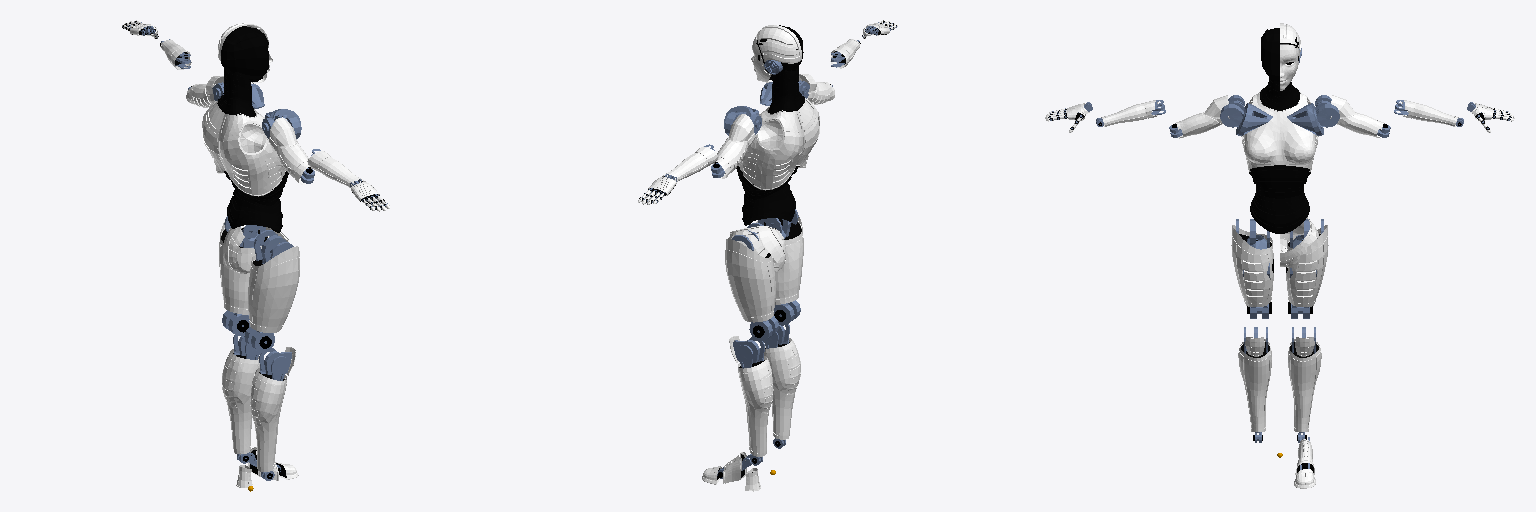
--- Render facts (derived) ---
Views: 3 orthographic renders of the robot side by side, from view 1: azimuth 30°, elevation 25°; view 2: azimuth 150°, elevation 25°; view 3: azimuth 270°, elevation 25°.
Model humanMeshed with 89 links and 88 joints (88 continuous), rooted at base_link, posed all joints at 0.
Visible links, largest first — view 1: chest_yaw, right_thigh_yaw, right_knee_yaw, left_knee_yaw, left_thigh_yaw, head_yaw, lower_spine_yaw, right_shoulder_yaw, neck_yaw, right_elbow_yaw, left_foot_yaw, hip_yaw (+3 smaller); view 2: chest_yaw, left_thigh_yaw, left_knee_yaw, right_knee_yaw, right_thigh_yaw, head_yaw, lower_spine_yaw, left_shoulder_yaw, hip_yaw, left_foot_yaw, neck_yaw, left_elbow_yaw (+3 smaller); view 3: chest_yaw, lower_spine_yaw, right_thigh_yaw, left_thigh_yaw, right_knee_yaw, left_knee_yaw, head_yaw, left_shoulder_yaw, right_shoulder_yaw, hip_yaw, left_clavicle_yaw, right_clavicle_yaw (+6 smaller).
Boxes of the visible links, x1=… form: chest_yaw: x1=202, y1=101, x2=285, y2=196; right_thigh_yaw: x1=244, y1=230, x2=299, y2=352; right_knee_yaw: x1=250, y1=347, x2=295, y2=480; left_knee_yaw: x1=222, y1=335, x2=260, y2=463; left_thigh_yaw: x1=219, y1=216, x2=269, y2=335; head_yaw: x1=218, y1=23, x2=272, y2=83; lower_spine_yaw: x1=224, y1=171, x2=288, y2=232; right_shoulder_yaw: x1=262, y1=115, x2=314, y2=184; neck_yaw: x1=217, y1=68, x2=255, y2=116; right_elbow_yaw: x1=307, y1=149, x2=365, y2=187; left_foot_yaw: x1=236, y1=447, x2=298, y2=487; hip_yaw: x1=223, y1=225, x2=288, y2=273; chest_yaw: x1=739, y1=98, x2=819, y2=190; left_thigh_yaw: x1=725, y1=223, x2=778, y2=341; left_knee_yaw: x1=729, y1=336, x2=773, y2=465; right_knee_yaw: x1=763, y1=324, x2=800, y2=448; right_thigh_yaw: x1=756, y1=209, x2=803, y2=325; head_yaw: x1=751, y1=25, x2=803, y2=82; lower_spine_yaw: x1=736, y1=166, x2=799, y2=225; left_shoulder_yaw: x1=711, y1=112, x2=761, y2=178; hip_yaw: x1=729, y1=223, x2=786, y2=271; left_foot_yaw: x1=702, y1=452, x2=760, y2=491; neck_yaw: x1=768, y1=66, x2=804, y2=113; left_elbow_yaw: x1=662, y1=144, x2=717, y2=181; chest_yaw: x1=1241, y1=91, x2=1318, y2=171; lower_spine_yaw: x1=1249, y1=165, x2=1310, y2=233; right_thigh_yaw: x1=1231, y1=219, x2=1273, y2=318; left_thigh_yaw: x1=1286, y1=219, x2=1328, y2=318; right_knee_yaw: x1=1238, y1=327, x2=1271, y2=442; left_knee_yaw: x1=1288, y1=327, x2=1321, y2=442; head_yaw: x1=1261, y1=23, x2=1301, y2=90; left_shoulder_yaw: x1=1315, y1=95, x2=1390, y2=138; right_shoulder_yaw: x1=1169, y1=95, x2=1244, y2=138; hip_yaw: x1=1243, y1=217, x2=1318, y2=277; left_clavicle_yaw: x1=1287, y1=103, x2=1339, y2=135; right_clavicle_yaw: x1=1220, y1=103, x2=1272, y2=135.
Bounding box of the posed robot: 0.3796 × 1.78 × 1.8 m (x, y, z).
Meshes: 19 distinct files referenced, 18 mesh visuals loaded (18 Collada DAE); not drawn: 1 (file found but could not be loaded).

robot.urdf — humanMeshed:
<?xml version="1.0"?>
<robot name="humanMeshed">

  <link name="base_link">
    <visual>
      <geometry>
        <sphere radius="0.01"/>
      </geometry>
    </visual>
  </link>

<!--   HIP starts here  -->
  <link name="hip_roll"/>

  <joint name="hip_roll" type="continuous">
    <parent link="base_link" />
    <child link="hip_roll" />
    <origin xyz="0.05 0 0.90"/>
    <axis xyz="1.0 0 0"/>
  </joint>

  <link name="hip_pitch">
    
  </link>

  <joint name="hip_pitch" type="continuous">
    <parent link="hip_roll"/>
    <child link="hip_pitch"/>
    <origin xyz="0 0 0"/>
    <axis xyz="0 1.0 0"/>
  </joint>

  <link name="hip_yaw">
        <visual>
      <geometry>  
        <mesh filename="package://online_tempo/models/humanMeshed/meshes/pelvis.dae" scale="0.06 0.06 0.06"/>
     </geometry>
      <origin rpy="0 0 1.57075" xyz="0 0 -0.96"/>   
    </visual>
  </link>

  <joint name="hip_yaw" type="continuous">
    <parent link="hip_pitch"/>
    <child link="hip_yaw"/>
    <origin xyz="0 0 0"/>
    <axis xyz="0 0 1.0"/>
  </joint>

 <!--           HIP ENDS HERE        -->
 <!--      RIGHT THIGH STARTS HERE    -->
 <joint name="right_thigh_roll" type="continuous">
    <parent link="hip_yaw"/>
    <child link="right_thigh_roll"/>
    <origin xyz="-0.008278 -0.100432  0.042441  "/>
    <axis xyz="1.0 0 0"/>
 </joint>

 <link name="right_thigh_roll"/>

 <joint name="right_thigh_pitch" type="continuous">
    <parent link="right_thigh_roll"/>
    <child link="right_thigh_pitch"/>
    <origin xyz="0 0 0"/>
    <axis xyz="0 1.0 0"/>
 </joint>

 <link name="right_thigh_pitch"/>

 <joint name="right_thigh_yaw" type="continuous">
    <parent link="right_thigh_pitch"/>
    <child link="right_thigh_yaw"/>
    <origin xyz="0 0 0"/>
    <axis xyz="0 0 1.0"/>
 </joint>

<link name="right_thigh_yaw">
  <visual>
    <geometry>
      <mesh filename="package://online_tempo/models/humanMeshed/meshes/rightThigh.dae" scale="0.06 0.06 0.06"/>
    </geometry>      
    <origin rpy="0 0 1.57075" xyz="0 0.0875 -0.8725"/>  
  </visual>
</link>
<!--       RIGHT THIGH ENDS HERE       -->
<!--       RIGHT KNEE STARTS HERE      -->
<joint name="right_knee_roll" type="continuous">
  <parent link="right_thigh_yaw"/>
  <child link="right_knee_roll"/>
  <origin xyz="0 0.008037 -0.436842"/>
  <axis xyz="1.0 0 0"/>
</joint>

<link name="right_knee_roll"/>

<joint name="right_knee_pitch" type="continuous">
  <parent link="right_knee_roll"/>
  <child link="right_knee_pitch"/>
  <origin xyz="0 0 0"/>
  <axis xyz="0 1.0 0"/>
</joint>

<link name="right_knee_pitch"/>

<joint name="right_knee_yaw" type="continuous">
  <parent link="right_knee_pitch"/>
  <child link="right_knee_yaw"/>
  <origin xyz="0 0 0"/>
  <axis xyz="0 0 1.0"/>
</joint>

<link name="right_knee_yaw">
  <visual>
    <geometry>
      <mesh filename="package://online_tempo/models/humanMeshed/meshes/rightShin.dae" scale="0.06 0.06 0.06"/>
    </geometry>      
    <origin rpy="0 0 1.57075" xyz="0.05 0.0675 -0.53"/>    
  </visual>
</link>
<!--         RIGHT KNEE ENDS HERE   -->
<!--         RIGHT FOOT STARTS HERE -->
<joint name="right_foot_roll" type="continuous">
  <parent link="right_knee_yaw"/>
  <child link="right_foot_roll"/>
  <origin xyz="0.0000 0.0000 -0.428949  "/>
  <axis xyz="1.0 0 0"/>
</joint> 

<link name="right_foot_roll"/>

<joint name="right_foot_pitch" type="continuous">
  <parent link="right_foot_roll"/>
  <child link="right_foot_pitch"/>
  <origin xyz="0 0 0"/>
  <axis xyz="0 1.0 0"/>
</joint> 

<link name="right_foot_pitch"/>

<joint name="right_foot_yaw" type="continuous">
  <parent link="right_foot_pitch"/>
  <child link="right_foot_yaw"/>
  <origin xyz="0 0 0"/>
  <axis xyz="0 0 1.0"/>
</joint> 

<link name="right_foot_yaw">
  <visual>
    <geometry>
      <mesh filename="package://online_tempo/models/humanMeshed/meshes/rightFoot.dae" scale="0.06 0.06 0.06"/>
    </geometry>
    <origin rpy="0 0 1.57075" xyz="0.07375 0.055 -0.1075"/>    
   </visual>
 </link>

<!--   RIGHT FOOT ENDS HERE   -->
<joint name="right_toe_roll" type="continuous">
  <parent link="right_foot_yaw"/>
  <child link="right_toe_roll"/>
  <origin xyz="0.098587 0.0000 -0.047145 "/>
  <axis xyz="1.0 0 0"/>
</joint>

<link name="right_toe_roll"/>

<joint name="right_toe_pitch" type="continuous">
  <parent link="right_toe_roll"/>
  <child link="right_toe_pitch"/>
  <origin xyz="0 0 0"/>
  <axis xyz="0 1.0 0"/>
</joint>

<link name="right_toe_pitch"/>

<joint name="right_toe_yaw" type="continuous">
  <parent link="right_toe_pitch"/>
  <child link="right_toe_yaw"/>
  <origin xyz="0 0 0"/>
  <axis xyz="0 0 1.0"/>
</joint>

<link name="right_toe_yaw"/>


<!--   LEFT THIGH STARTS HERE -->
 <joint name="left_thigh_roll" type="continuous">
    <parent link="hip_yaw"/>
    <child link="left_thigh_roll"/>
    
    <origin xyz="-0.008278 0.100433 0.042438  "/>
    <axis xyz="1.0 0 0"/>
 </joint>



 <link name="left_thigh_roll"/>

 <joint name="left_thigh_pitch" type="continuous">
    <parent link="left_thigh_roll"/>
    <child link="left_thigh_pitch"/>
    <origin xyz="0 0 0"/>
    <axis xyz="0 1.0 0"/>
 </joint>

 <link name="left_thigh_pitch"/>

 <joint name="left_thigh_yaw" type="continuous">
    <parent link="left_thigh_pitch"/>
    <child link="left_thigh_yaw"/>
    <origin xyz="0 0 0"/>
    <axis xyz="0 0 1.0"/>
 </joint>

<link name="left_thigh_yaw">
  <visual>
    <geometry>
      <mesh filename="package://online_tempo/models/humanMeshed/meshes/leftThigh.dae" scale="0.06 0.06 0.06"/>
    </geometry>      
    <origin rpy="0 0 1.57075" xyz="0 -0.0875 -0.8725"/>    
  </visual>
</link>
<!--     LEFT THIGH ENDS HERE -->
<!--       LEFT KNEE STARTS HERE      -->
<joint name="left_knee_roll" type="continuous">
  <parent link="left_thigh_yaw"/>
  <child link="left_knee_roll"/>
  <origin xyz="0 -0.008037 -0.436838 "/>

  <axis xyz="1.0 0 0"/>
</joint>

<link name="left_knee_roll"/>

<joint name="left_knee_pitch" type="continuous">
  <parent link="left_knee_roll"/>
  <child link="left_knee_pitch"/>
  <origin xyz="0 0 0"/>
  <axis xyz="0 1.0 0"/>
</joint>

<link name="left_knee_pitch"/>

<joint name="left_knee_yaw" type="continuous">
  <parent link="left_knee_pitch"/>
  <child link="left_knee_yaw"/>
  <origin xyz="0 0 0"/>
  <axis xyz="0 0 1.0"/>
</joint>

<link name="left_knee_yaw">
  <visual>
    <geometry>
      <mesh filename="package://online_tempo/models/humanMeshed/meshes/leftShin.dae" scale="0.06 0.06 0.06"/>
    </geometry>      
    <origin rpy="0 0 1.57075" xyz="0.05 -0.0675 -0.53"/>   
  </visual>
</link>
<!--         left KNEE ENDS HERE   -->
<!--         left FOOT STARTS HERE -->
<joint name="left_foot_roll" type="continuous">
  <parent link="left_knee_yaw"/>
  <child link="left_foot_roll"/>
  
  <origin xyz="0 0.0000 -0.428949  "/>
  <axis xyz="1.0 0 0"/>
</joint> 

<link name="left_foot_roll"/>

<joint name="left_foot_pitch" type="continuous">
  <parent link="left_foot_roll"/>
  <child link="left_foot_pitch"/>
  <origin xyz="0 0 0"/>
  <axis xyz="0 1.0 0"/>
</joint> 

<link name="left_foot_pitch"/>

<joint name="left_foot_yaw" type="continuous">
  <parent link="left_foot_pitch"/>
  <child link="left_foot_yaw"/>
  <origin xyz="0 0 0"/>
  <axis xyz="0 0 1.0"/>
</joint> 

<link name="left_foot_yaw">
  <visual>
    <geometry>
      <mesh filename="package://online_tempo/models/humanMeshed/meshes/leftFoot.dae" scale="0.06 0.06 0.06"/>
    </geometry>
    <origin rpy="0 0 1.57075" xyz="0.07375 -0.055 -0.1075"/>    
   </visual>
</link>
<!--   left FOOT ENDS HERE   -->

<joint name="left_toe_roll" type="continuous">
  <parent link="left_foot_yaw"/>
  <child link="left_toe_roll"/>
  <origin xyz="0.098587 0.0000 -0.047145 "/>
  <axis xyz="1.0 0 0"/>
</joint>

<link name="left_toe_roll"/>

<joint name="left_toe_pitch" type="continuous">
  <parent link="left_toe_roll"/>
  <child link="left_toe_pitch"/>
  <origin xyz="0 0 0"/>
  <axis xyz="0 1.0 0"/>
</joint>

<link name="left_toe_pitch"/>

<joint name="left_toe_yaw" type="continuous">
  <parent link="left_toe_pitch"/>
  <child link="left_toe_yaw"/>
  <origin xyz="0 0 0"/>
  <axis xyz="0 0 1.0"/>
</joint>

<link name="left_toe_yaw"/>



<!--   lower_spine STARTS HERE   -->
<joint name="lower_spine_roll" type="continuous">
  <parent link="hip_yaw"/>
  <child link="lower_spine_roll"/>
  <origin xyz="-0.050805 0.0000 0.093885  "/>
  <axis xyz="1.0 0 0"/>
</joint>

<link name="lower_spine_roll"/>

<joint name="lower_spine_pitch" type="continuous">
  <parent link="lower_spine_roll"/>
  <child link="lower_spine_pitch"/>
  <origin xyz="0 0 0"/>
  <axis xyz="0 1.0 0"/>
</joint>

<link name="lower_spine_pitch"/>

<joint name="lower_spine_yaw" type="continuous">
  <parent link="lower_spine_pitch"/>
  <child link="lower_spine_yaw"/>
  <origin xyz="0 0 0"/>
  <axis xyz="0 0 1.0"/>
</joint>


<link name="lower_spine_yaw">
  <visual>
    <geometry>
              <mesh filename="package://online_tempo/models/humanMeshed/meshes/abdomen.dae" scale="0.06 0.06 0.06"/>
    </geometry>
    <origin rpy="0 0 1.57075" xyz="-0.005 0 -1"/>    
  </visual>
</link>

<!--  lower_spine ENDS HERE     -->
<!--  middle_spine Starts here  -->
<joint name="middle_spine_roll" type="continuous">
  <parent link="lower_spine_yaw"/>
  <child link="middle_spine_roll"/>
  <origin xyz="0.004476 0.0000 0.085677  "/>
  <axis xyz="1.0 0 0"/>
</joint>

<link name="middle_spine_roll"/>

<joint name="middle_spine_pitch" type="continuous">
  <parent link="middle_spine_roll"/>
  <child link="middle_spine_pitch"/>
  <origin xyz="0 0 0"/>
  <axis xyz="0 1.0 0"/>
</joint>

<link name="middle_spine_pitch"/>

<joint name="middle_spine_yaw" type="continuous">
  <parent link="middle_spine_pitch"/>
  <child link="middle_spine_yaw"/>
  <origin xyz="0 0 0"/>
  <axis xyz="0 0 1.0"/>
</joint>

<link name="middle_spine_yaw">
  <!--
  <visual>
    <geometry>
        <box size="0.10 0.25 0.08"/>
    </geometry>
    <origin rpy="0 0 0" xyz="0 0 0.04"/>    
  </visual>
-->
</link>

<!--  middle_spine Ends here    -->
<!--  CHEST STARTS HERE     -->
<joint name="chest_roll" type="continuous">
  <parent link="middle_spine_yaw"/>
  <child link="chest_roll"/>
  <origin xyz="-0.023598 0.0000 0.106015 "/>
  <axis xyz="1.0 0 0"/>
</joint>

<link name="chest_roll"/>

<joint name="chest_pitch" type="continuous">
  <parent link="chest_roll"/>
  <child link="chest_pitch"/>
  <origin xyz="0 0 0"/>
  <axis xyz="0 1.0 0"/>
</joint>

<link name="chest_pitch"/>

<joint name="chest_yaw" type="continuous">
  <parent link="chest_pitch"/>
  <child link="chest_yaw"/>
  <origin xyz="0 0 0"/>
  <axis xyz="0 0 1.0"/>
</joint>

<link name="chest_yaw">
  <visual>
    <geometry>
      <mesh filename="package://online_tempo/models/humanMeshed/meshes/chest.dae" scale="0.06 0.06 0.06"/>
    </geometry>
    <origin rpy="0 0 1.57075" xyz="0 0 -1.2"/>    
  </visual>
</link>
<!--     Chest ends here            -->
<!--     left clavicle starts here  -->
<joint name="left_clavicle_roll" type="continuous">
  <parent link="chest_yaw"/>
  <child link="left_clavicle_roll"/>
  <origin xyz="0.078988 0.024119 0.230552 "/>
  <axis xyz="1.0 0 0"/>
</joint>

<link name="left_clavicle_roll"/>

<joint name="left_clavicle_pitch" type="continuous">
  <parent link="left_clavicle_roll"/>
  <child link="left_clavicle_pitch"/>
  <origin xyz="0 0 0"/>
  <axis xyz="0 1.0 0"/>
</joint>

<link name="left_clavicle_pitch"/>

<joint name="left_clavicle_yaw" type="continuous">
  <parent link="left_clavicle_pitch"/>
  <child link="left_clavicle_yaw"/>
  <origin xyz="0 0 0"/>
  <axis xyz="0 0 1.0"/>
</joint>

<link name="left_clavicle_yaw">
  <visual>
    <geometry>
    <mesh filename="package://online_tempo/models/humanMeshed/meshes/leftClavicle.dae" scale="0.06 0.06 0.06"/>
    </geometry>
    <origin rpy="0 0 1.57075" xyz="0.04 0 -1.4"/>
  </visual>
</link>
<!-- left clavicle ends here   -->
<!-- left shoulder starts here -->
<joint name="left_shoulder_roll" type="continuous">
  <parent link="left_clavicle_yaw"/>
  <child link="left_shoulder_roll"/>
  <origin xyz="-0.053510 0.140907  0.033069  "/>
  <axis xyz="1.0 0 0"/>
</joint>

<link name="left_shoulder_roll"/>

<joint name="left_shoulder_pitch" type="continuous">
  <parent link="left_shoulder_roll"/>
  <child link="left_shoulder_pitch"/>
  <origin xyz="0 0 0"/>
  <axis xyz="0 1.0 0"/>
</joint>

<link name="left_shoulder_pitch"/>

<joint name="left_shoulder_yaw" type="continuous">
  <parent link="left_shoulder_pitch"/>
  <child link="left_shoulder_yaw"/>
  <origin xyz="0 0 0"/>
  <axis xyz="0 0 1.0"/>
</joint>

<link name="left_shoulder_yaw">
  <visual>
    <geometry>
      <mesh filename="package://online_tempo/models/humanMeshed/meshes/leftBicep.dae" scale="0.06 0.06 0.06"/> 
    </geometry>
    <origin rpy="0 0 1.57075 " xyz="0.04 -0.16 -1.42" />
  </visual>
</link>
<!-- left shoulder ends here -->
<!-- left elbow starts here -->
<joint name="left_elbow_roll" type="continuous">
  <parent link="left_shoulder_yaw"/>
  <child link="left_elbow_roll"/>
  <origin xyz="-0.002594 0.299313  -0.001061 "/>
  <axis xyz="1.0 0 0"/>
</joint>

<link name="left_elbow_roll"/>

<joint name="left_elbow_pitch" type="continuous">
  <parent link="left_elbow_roll"/>
  <child link="left_elbow_pitch"/>
  <origin xyz="0 0 0"/>
  <axis xyz="0 1.0 0"/>
</joint>

<link name="left_elbow_pitch"/>

<joint name="left_elbow_yaw" type="continuous">
  <parent link="left_elbow_pitch"/>
  <child link="left_elbow_yaw"/>
  <origin xyz="0 0 0"/>
  <axis xyz="0 0 1.0"/>
</joint>

<link name="left_elbow_yaw">
  <visual>
    <geometry>
      <mesh filename="package://online_tempo/models/humanMeshed/meshes/leftForearm.dae" scale="0.06 0.06 0.06"/> 
    </geometry>
    <origin rpy="0 0 1.57075 " xyz="0.04 -0.4 -1.322" />
  </visual>
</link>
<!-- left elbow ends here   -->
<!-- left hand starts here  -->
<joint name="left_hand_roll" type="continuous">
  <parent link="left_elbow_yaw"/>
  <child link="left_hand_roll"/>
  <origin xyz="-0.001496 0.249691  0.000724  "/>
  <axis xyz="1.0 0 0"/>
</joint>

<link name="left_hand_roll"/>

<joint name="left_hand_pitch" type="continuous">
  <parent link="left_hand_roll"/>
  <child link="left_hand_pitch"/>
  <origin xyz="0 0 0"/>
  <axis xyz="0 1.0 0"/>
</joint>

<link name="left_hand_pitch"/>

<joint name="left_hand_yaw" type="continuous">
  <parent link="left_hand_pitch"/>
  <child link="left_hand_yaw"/>
  <origin xyz="0 0 0"/>
  <axis xyz="0 0 1.0"/>
</joint>

<link name="left_hand_yaw">
  <visual>
    <geometry>
      <mesh filename="package://online_tempo/models/humanMeshed/meshes/leftHand.dae" scale="0.06 0.06 0.06"/> 
    </geometry>
    <origin rpy="0 0 1.57075 " xyz="-0.0075 -0.61 -1.28" />
  </visual>
</link>
<!-- left hand ends here    -->

<joint name="right_clavicle_roll" type="continuous">
  <parent link="chest_yaw"/>
  <child link="right_clavicle_roll"/>
  <origin xyz="0.078988 -0.024119  0.230552 "/>
  <axis xyz="1.0 0 0"/>
</joint>

<link name="right_clavicle_roll"/>

<joint name="right_clavicle_pitch" type="continuous">
  <parent link="right_clavicle_roll"/>
  <child link="right_clavicle_pitch"/>
  <origin xyz="0 0 0"/>
  <axis xyz="0 1.0 0"/>
</joint>

<link name="right_clavicle_pitch"/>

<joint name="right_clavicle_yaw" type="continuous">
  <parent link="right_clavicle_pitch"/>
  <child link="right_clavicle_yaw"/>
  <origin xyz="0 0 0"/>
  <axis xyz="0 0 1.0"/>
</joint>

<link name="right_clavicle_yaw">
  <visual>
    <geometry>
    <mesh filename="package://online_tempo/models/humanMeshed/meshes/rightClavicle.dae" scale="0.06 0.06 0.06"/>
    </geometry>
    <origin rpy="0 0 1.57075" xyz="0.04 0 -1.4"/>
  </visual>
</link>
<!-- right clavicle ends here   -->
<!-- right shoulder starts here -->
<joint name="right_shoulder_roll" type="continuous">
  <parent link="right_clavicle_yaw"/>
  <child link="right_shoulder_roll"/>
  <origin xyz="-0.053519 -0.140932 0.033075  "/>
  <axis xyz="1.0 0 0"/>
</joint>

<link name="right_shoulder_roll"/>

<joint name="right_shoulder_pitch" type="continuous">
  <parent link="right_shoulder_roll"/>
  <child link="right_shoulder_pitch"/>
  <origin xyz="0 0 0"/>
  <axis xyz="0 1.0 0"/>
</joint>

<link name="right_shoulder_pitch"/>

<joint name="right_shoulder_yaw" type="continuous">
  <parent link="right_shoulder_pitch"/>
  <child link="right_shoulder_yaw"/>
  <origin xyz="0 0 0"/>
  <axis xyz="0 0 1.0"/>
</joint>

<link name="right_shoulder_yaw">
  <visual>
    <geometry>
      <mesh filename="package://online_tempo/models/humanMeshed/meshes/rightBicep.dae" scale="0.06 0.06 0.06"/> 
    </geometry>
    <origin rpy="0 0 1.57075 " xyz="0.04 0.16 -1.42" />
  </visual>
</link>
<!-- right shoulder ends here -->
<!-- right elbow starts here -->
<joint name="right_elbow_roll" type="continuous">
  <parent link="right_shoulder_yaw"/>
  <child link="right_elbow_roll"/>
  <origin xyz="-0.002594 -0.299313 -0.001061 "/>
  <axis xyz="1.0 0 0"/>
</joint>

<link name="right_elbow_roll"/>

<joint name="right_elbow_pitch" type="continuous">
  <parent link="right_elbow_roll"/>
  <child link="right_elbow_pitch"/>
  <origin xyz="0 0 0"/>
  <axis xyz="0 1.0 0"/>
</joint>

<link name="right_elbow_pitch"/>

<joint name="right_elbow_yaw" type="continuous">
  <parent link="right_elbow_pitch"/>
  <child link="right_elbow_yaw"/>
  <origin xyz="0 0 0"/>
  <axis xyz="0 0 1.0"/>
</joint>

<link name="right_elbow_yaw">
  <visual>
    <geometry>
      <mesh filename="package://online_tempo/models/humanMeshed/meshes/rightForearm.dae" scale="0.06 0.06 0.06"/> 
    </geometry>
    <origin rpy="0 0 1.57075 " xyz="0.04 0.4 -1.322" />
  </visual>
</link>
<!-- right elbow ends here   -->
<!-- right hand starts here  -->
<joint name="right_hand_roll" type="continuous">
  <parent link="right_elbow_yaw"/>
  <child link="right_hand_roll"/>
  <origin xyz="-0.001496 -0.249691 0.000724  "/>
  <axis xyz="1.0 0 0"/>
</joint>

<link name="right_hand_roll"/>

<joint name="right_hand_pitch" type="continuous">
  <parent link="right_hand_roll"/>
  <child link="right_hand_pitch"/>
  <origin xyz="0 0 0"/>
  <axis xyz="0 1.0 0"/>
</joint>

<link name="right_hand_pitch"/>

<joint name="right_hand_yaw" type="continuous">
  <parent link="right_hand_pitch"/>
  <child link="right_hand_yaw"/>
  <origin xyz="0 0 0"/>
  <axis xyz="0 0 1.0"/>
</joint>

<link name="right_hand_yaw">
  <visual>
    <geometry>
      <mesh filename="package://online_tempo/models/humanMeshed/meshes/rightHand.dae" scale="0.06 0.06 0.06"/> 
    </geometry>
    <origin rpy="0 0 1.57075 " xyz="-0.0075 0.61 -1.28" />
  </visual>
</link>
<!-- right hand ends here    -->

<!-- neck starts here   -->
<joint name="neck_roll" type="continuous">
  <parent link="chest_yaw"/>
  <child link="neck_roll"/>
  <origin xyz="0 0 0.25"/>
  <axis xyz="1.0 0 0"/>
</joint>

<link name="neck_roll"/>

<joint name="neck_pitch" type="continuous">
  <parent link="neck_roll"/>
  <child link="neck_pitch"/>
  <origin xyz="0 0 0"/>
  <axis xyz="0 1.0 0"/>
</joint>

<link name="neck_pitch"/>

<joint name="neck_yaw" type="continuous">
  <parent link="neck_pitch"/>
  <child link="neck_yaw"/>
  <origin xyz="0 0 0"/>
  <axis xyz="0 0 1.0"/>
</joint>

<link name="neck_yaw">
  <visual>
    <geometry>
      <mesh filename="package://online_tempo/models/humanMeshed/meshes/neck.dae" scale="0.06 0.06 0.06"/> 
    </geometry>
    <origin rpy="0 0 1.57075 " xyz="-0.0075 0 -1.45" />
  </visual>
</link>
<!-- neck ends here -->
<!-- head starts here -->
<joint name="head_roll" type="continuous">
  <parent link="neck_yaw"/>
  <child link="head_roll"/>
  <origin xyz="0 0 0.10"/>
  <axis xyz="1.0 0 0"/>
</joint>

<link name="head_roll"/>

<joint name="head_pitch" type="continuous">
  <parent link="head_roll"/>
  <child link="head_pitch"/>
  <origin xyz="0 0 0"/>
  <axis xyz="0 1.0 0"/>
</joint>

<link name="head_pitch"/>

<joint name="head_yaw" type="continuous">
  <parent link="head_pitch"/>
  <child link="head_yaw"/>
  <origin xyz="0 0 0"/>
  <axis xyz="0 0 1.0"/>
</joint>

<link name="head_yaw">
  <visual>
    <geometry>
      <mesh filename="package://online_tempo/models/humanMeshed/meshes/head.dae" scale="0.06 0.06 0.06"/> 
    </geometry>
    <origin rpy="0 0 1.57075 " xyz="-0.0075 0 -1.53" />
  </visual>
</link>
<!-- head ends here -->
<link name="hip">
    
  </link>

  <link name="lower_spine"/>
  <joint name="hip_to_lower_spine" type="continuous">
    <parent link="hip"/>
    <child link="lower_spine"/>
  </joint> 

  <link name="middle_spine"/>
  <joint name="lower_spine_to_middle_spine" type="continuous">
    <parent link="lower_spine"/>
    <child link="middle_spine"/>
  </joint> 

  <link name="chest"/>  
  <joint name="middle_spine_to_chest" type="continuous">
    <parent link="middle_spine"/>
    <child link="chest"/>
  </joint> 

  <link name="neck"/>  
  <joint name="chest_to_neck" type="continuous">
    <parent link="chest"/>
    <child link="neck"/>
  </joint> 

 <link name="head"/>  
  <joint name="neck_to_head" type="continuous">
    <parent link="neck"/>
    <child link="head"/>
  </joint> 

 
<!-- -->
 <link name="left_clavicle"/>  
  <joint name="chest_to_left_clavicle" type="continuous">
    <parent link="chest"/>
    <child link="left_clavicle"/>
  </joint> 
  
 <link name="left_shoulder"/>  
  <joint name="left_clavicle_to_left_shoulder" type="continuous">
    <parent link="left_clavicle"/>
    <child link="left_shoulder"/>
  </joint> 
 
 <link name="left_forearm"/>  
  <joint name="left_shoulder_to_left_forearm" type="continuous">
    <parent link="left_shoulder"/>
    <child link="left_forearm"/>
  </joint>

 <link name="left_hand"/>  
  <joint name="left_forearm_to_left_hand" type="continuous">
    <parent link="left_forearm"/>
    <child link="left_hand"/>
  </joint>  
<!-- -->
 <link name="right_clavicle"/>  
  <joint name="chest_to_right_clavicle" type="continuous">
    <parent link="chest"/>
    <child link="right_clavicle"/>
  </joint> 
  
 <link name="right_shoulder"/>  
  <joint name="right_clavicle_to_right_shoulder" type="continuous">
    <parent link="right_clavicle"/>
    <child link="right_shoulder"/>
  </joint> 
 
 <link name="right_forearm"/>  
  <joint name="right_shoulder_to_right_forearm" type="continuous">
    <parent link="right_shoulder"/>
    <child link="right_forearm"/>
  </joint>

 <link name="right_hand"/>  
  <joint name="right_forearm_to_right_hand" type="continuous">
    <parent link="right_forearm"/>
    <child link="right_hand"/>
  </joint>

<!-- -->

<!-- start of right leg geometry-->
  <link name="right_tigh">
    
  </link>

  <link name="right_leg">
    
  </link>

  <link name="right_foot">
    
  </link>

 <link name="right_foot_toe"/> 


 <joint name="right_foot_to_right_foot_toe" type="continuous">
    <parent link="right_foot"/>
    <child link="right_foot_toe"/>
    <origin xyz="0 0 -0.45"/>
  </joint> 

 
  

<!-- end of right leg geometry -->
<!-- start of left leg geometry -->
  <link name="left_tigh">
   
  </link>

  <link name="left_leg">

  </link>

  <link name="left_foot">
    
  </link>

  <link name="left_foot_toe"/>

  <joint name="left_foot_to_left_foot_toe" type="continuous">
    <parent link="left_foot"/>
    <child link="left_foot_toe"/>
    <origin xyz="0 0 -0.45"/>
  </joint> 

  
  

  <!--link name="left_toe"/>
  <link name="left_toe_end"/-->
    
  
<!-- end of left leg geometry -->

<!-- start of abs -->


  <joint name="base_to_hip" type="continuous">
    <parent link="base_link" />
    <child link="hip" />
    <origin xyz="0 0 0.90"/>
  </joint>
  <!-- right leg joints -->
  
<joint name="hip_to_right_tigh" type="continuous">
  <parent link="hip"/>
    <child link="right_tigh"/>
    <origin xyz="0 -0.1 0"/>
  </joint>





  <joint name="right_tigh_to_right_leg" type="continuous">
    <parent link="right_tigh" />
    <child link="right_leg"/>
    <origin xyz="0 0 -0.45"/>
   </joint>   

  <joint name="right_leg_to_foot" type="continuous">
    <parent link="right_leg"/>
    <child link="right_foot"/>
    <origin xyz="0 0 -0.45"/>
  </joint> 



  <!-- left leg joints -->
   <joint name="hip_to_left_tigh" type="continuous">
    <parent link="hip"/>
    <child link="left_tigh"/>
    <origin xyz="0 0.1 0"/>
  </joint>

  <joint name="left_tigh_to_left_leg" type="continuous">
    <parent link="left_tigh" />
    <child link="left_leg"/>
    <origin xyz="0 0 -0.45"/>
   </joint>   

  <joint name="left_leg_to_foot" type="continuous">
    <parent link="left_leg"/>
    <child link="left_foot"/>
    <origin xyz="0 0 -0.45"/>
  </joint> 


</robot>
